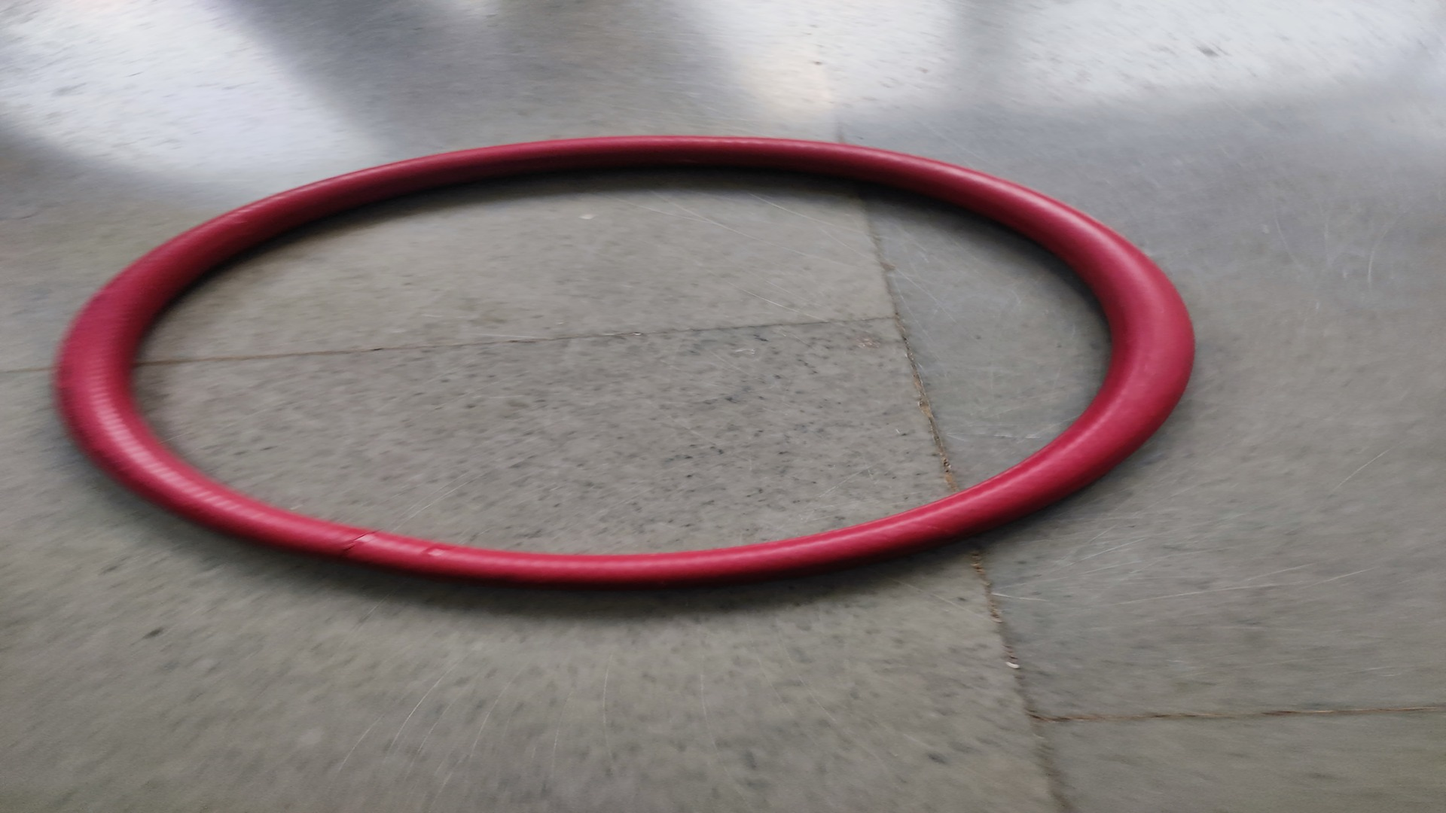Red ring: (59, 136, 1185, 582)
